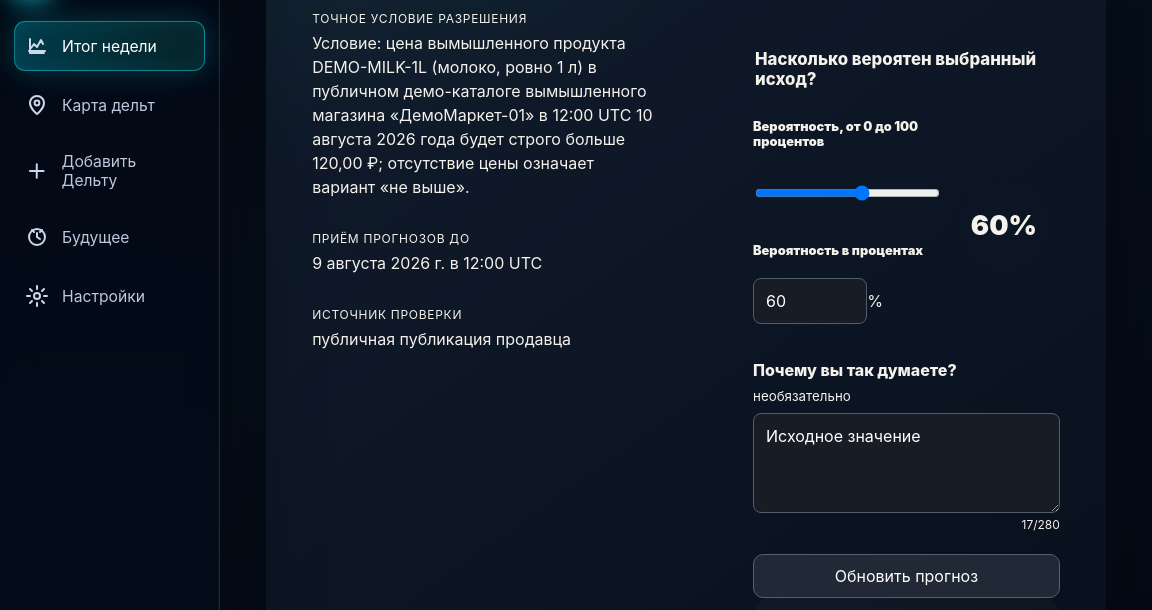
Test case: production ForecastPage › preserves deadline rejection, reloads authoritative saved forecast read-only, and shows no success
The image size is (1152, 610).
(page scrolled)
Replace the text in the number field with "80" at [810, 301], box [753,278,867,324]
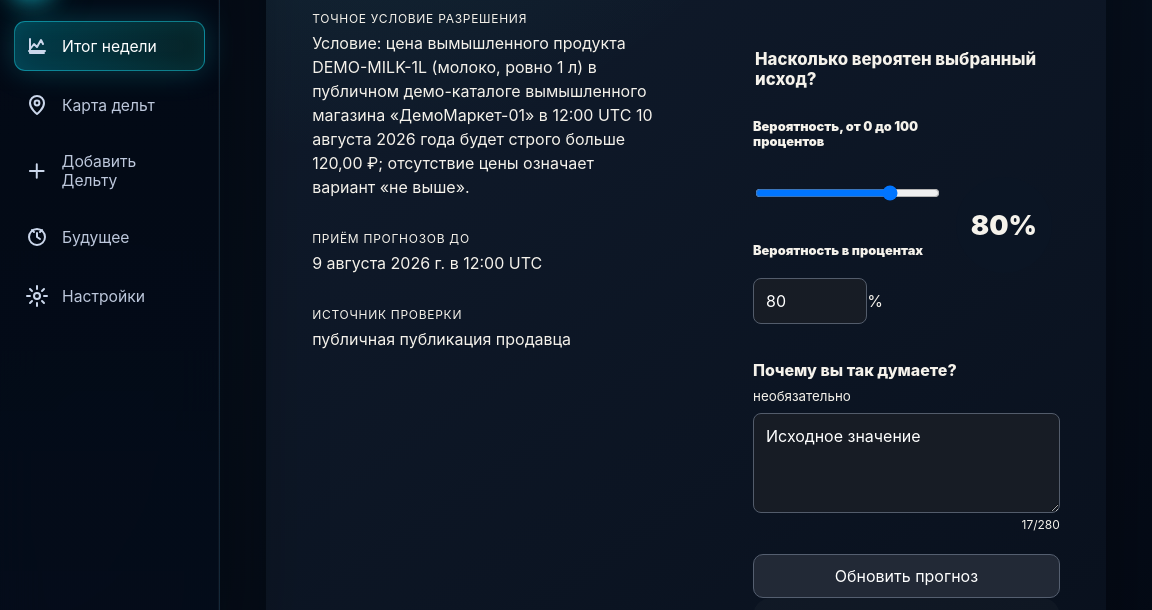
Click the button "Обновить прогноз" at [906, 576], box [753,554,1060,598]
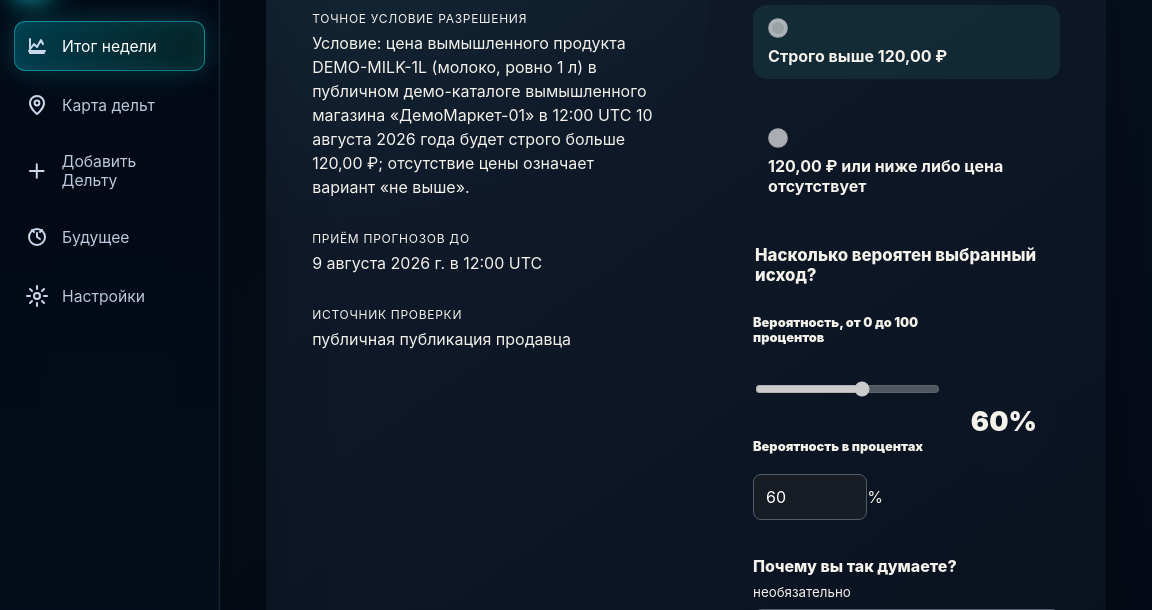
Expected: the number field is disabled, [753,474,867,520]
Expected: the number field holds "60", [753,474,867,520]
